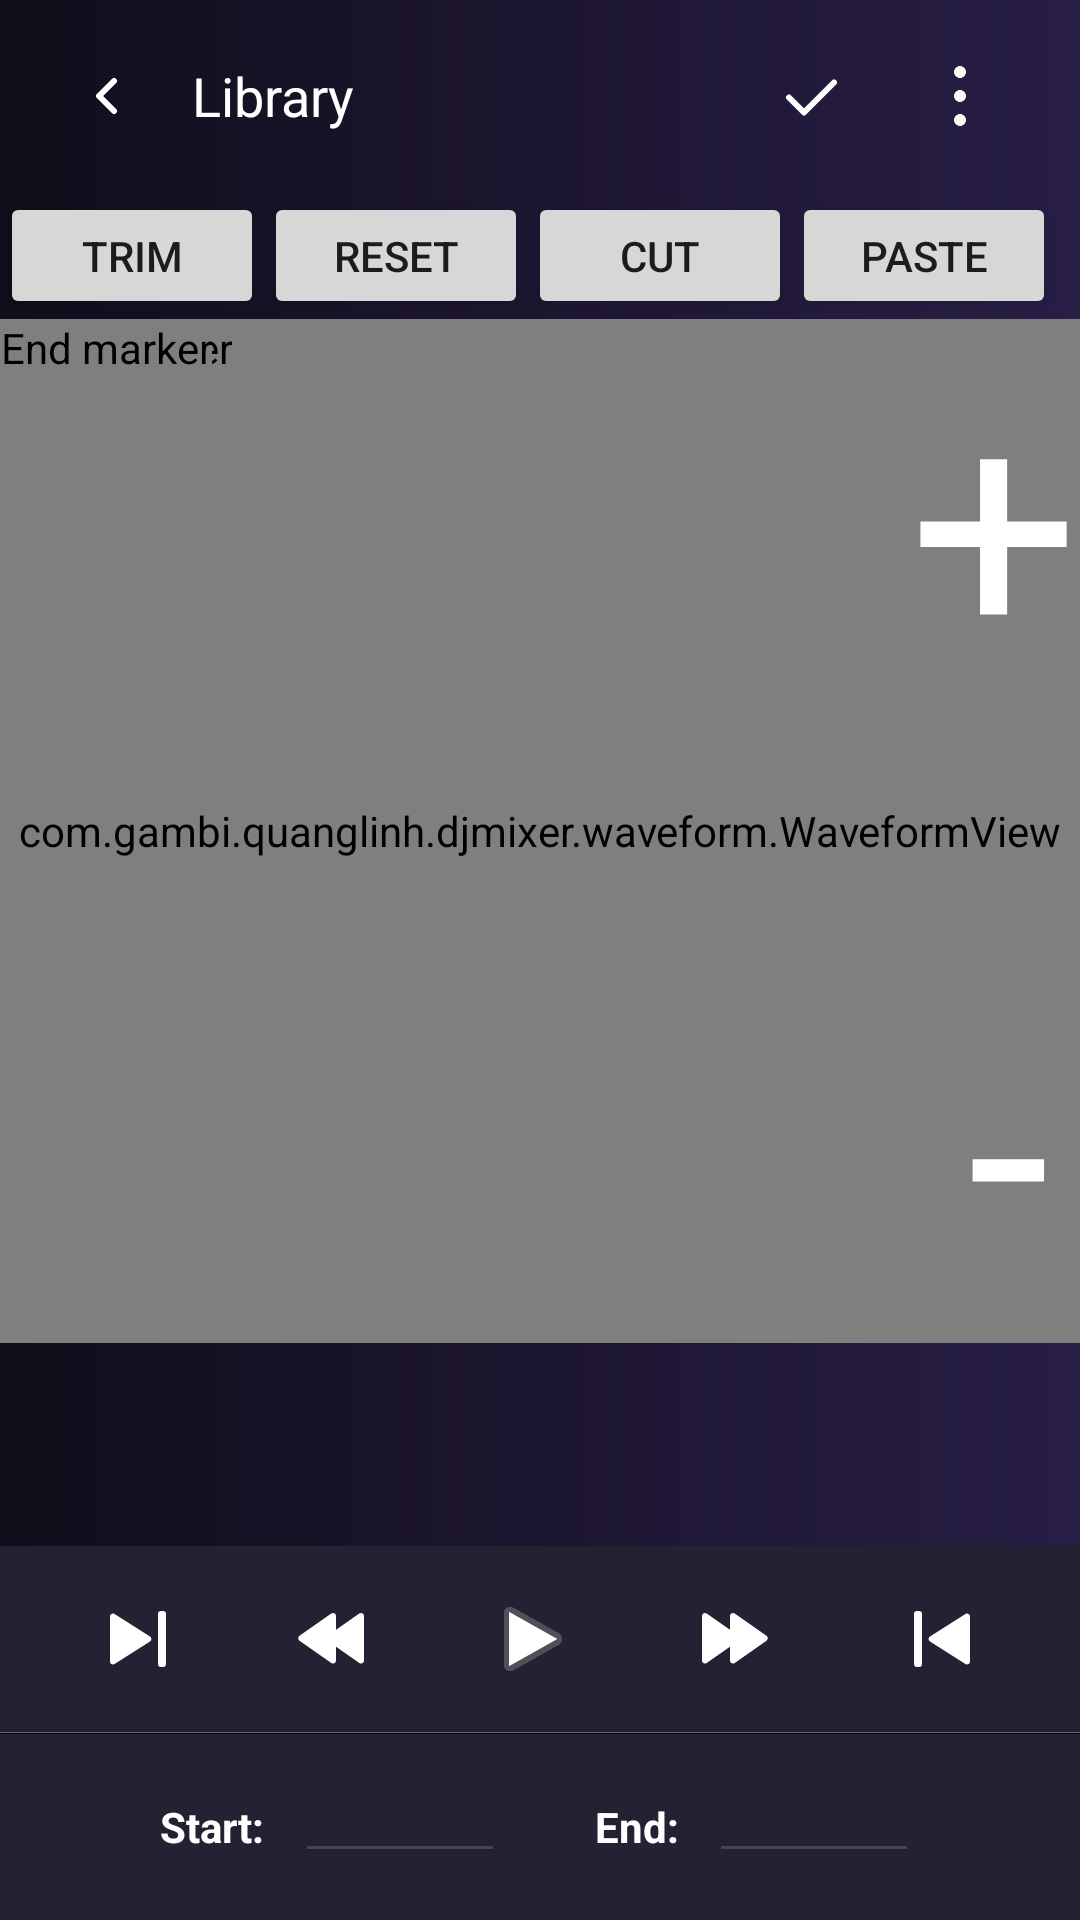

Screen size 1080*1920. Icon name, then its center in pixels as point (x, y):
arrow smaller: point (106, 96)
dot: point (960, 96)
fast back: point (331, 1638)
Fast forward: point (735, 1638)
Play: point (533, 1639)
tabler check: point (811, 97)
